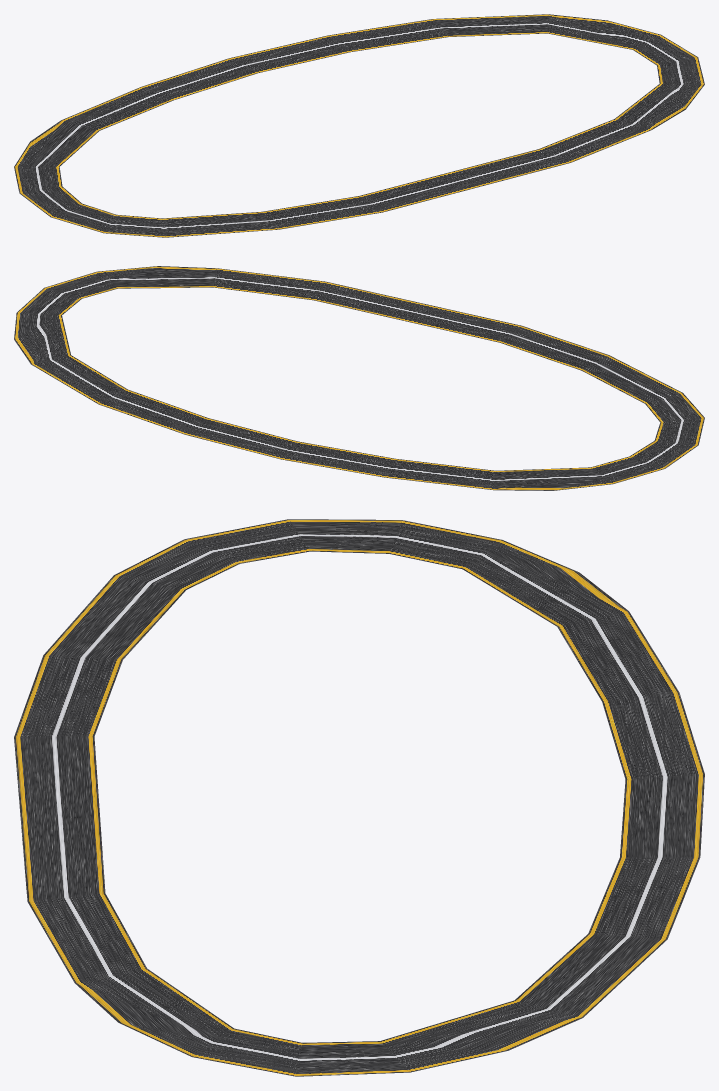
Rendered from need.fbx.
3 views of the same model, one above another, from view 1: azimuth 30°, elevation 25°; view 2: azimuth 150°, elevation 25°; view 3: azimuth 270°, elevation 25° (orthographic). The views are drawn at different scales.
Parts seen in each view (by area): view 1: loftedSurface1; view 2: loftedSurface1; view 3: loftedSurface1.
Part boxes in pixels (left/top/right/bottom): loftedSurface1: left=14, top=14, right=704, bottom=237; loftedSurface1: left=14, top=266, right=704, bottom=490; loftedSurface1: left=14, top=519, right=704, bottom=1076.
Bounding box in the file's own units: 32.84 × 0 × 17.2.
Materials: 1 (1 with a texture image).
